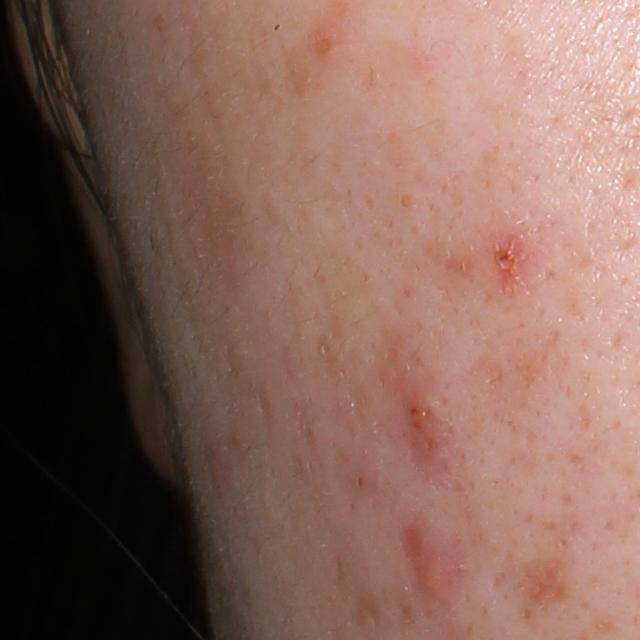comedo: (391, 190, 417, 214), (354, 475, 366, 491)
papule: (480, 227, 541, 297), (399, 393, 445, 449)
